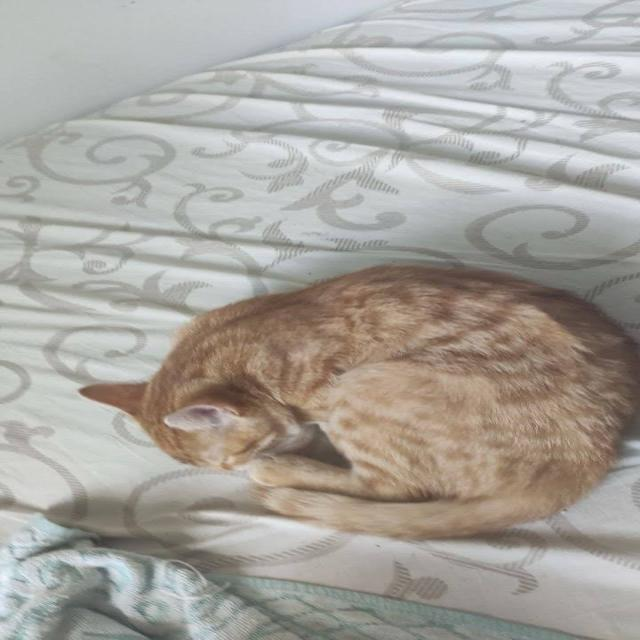red_cat: (96, 263, 640, 524)
